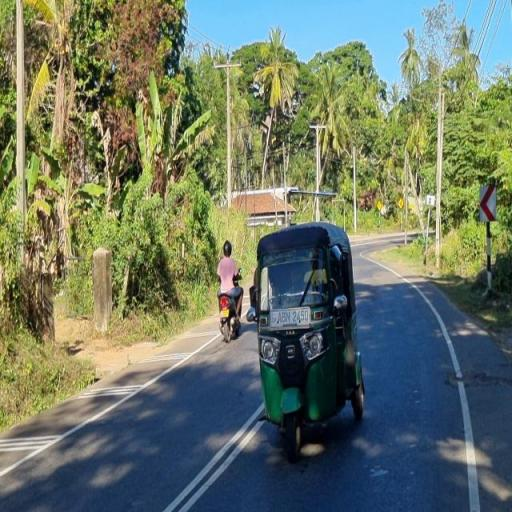double_white_line: (158, 400, 264, 510)
